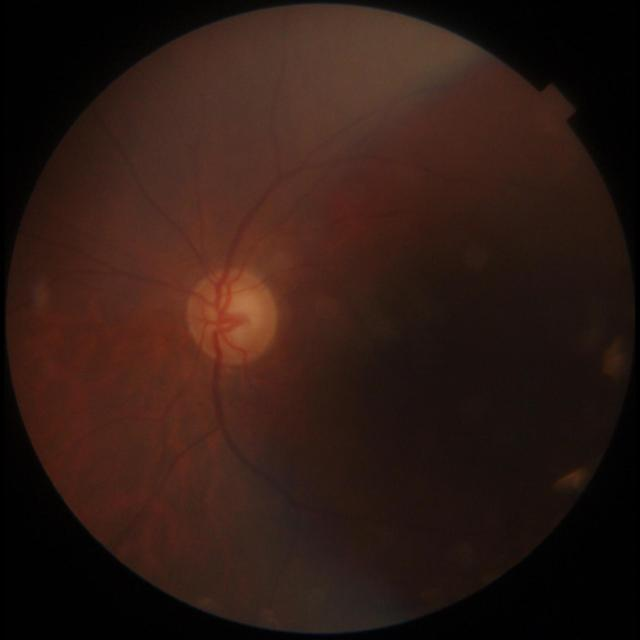OC: (217, 293, 260, 333)
OD: (188, 271, 275, 363)
